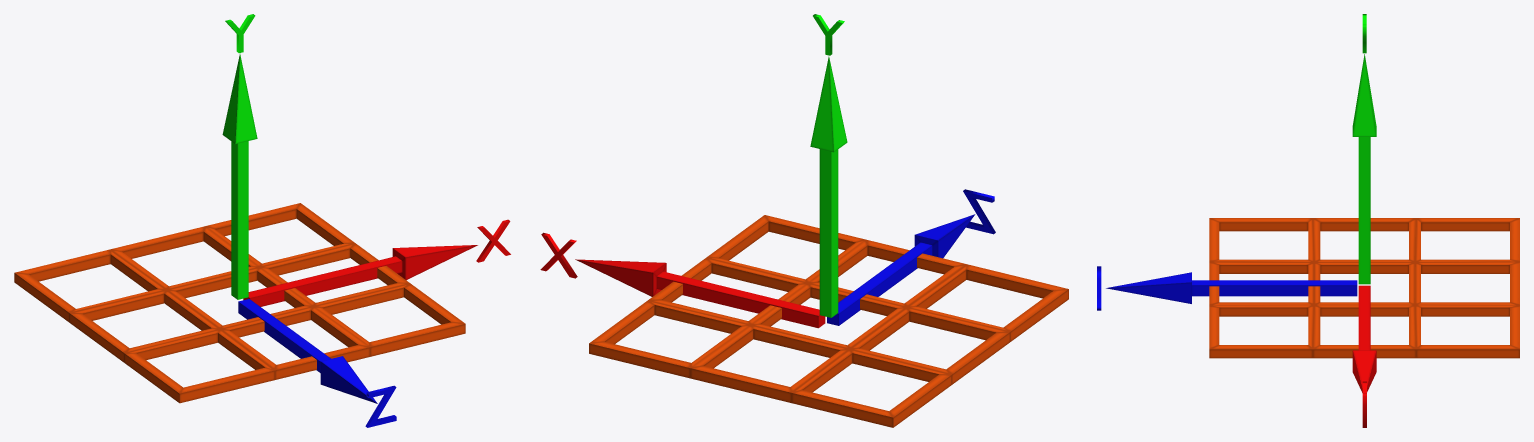
The model's file is StructureHelperSnapGrid.fbx.
The picture shows the model from 3 angles, left to right: view 1: azimuth 30°, elevation 25°; view 2: azimuth 150°, elevation 25°; view 3: azimuth 270°, elevation 25°; orthographic projection. The views are drawn at different scales.
Parts seen in each view (by area): view 1: GridSnapPlane; view 2: GridSnapPlane; view 3: GridSnapPlane.
Part boxes in pixels (left/top/right/bottom): GridSnapPlane: left=14, top=14, right=510, bottom=427; GridSnapPlane: left=540, top=14, right=1068, bottom=427; GridSnapPlane: left=1097, top=14, right=1519, bottom=427.
Size of the model in its own units: 877 by 612 by 826.
